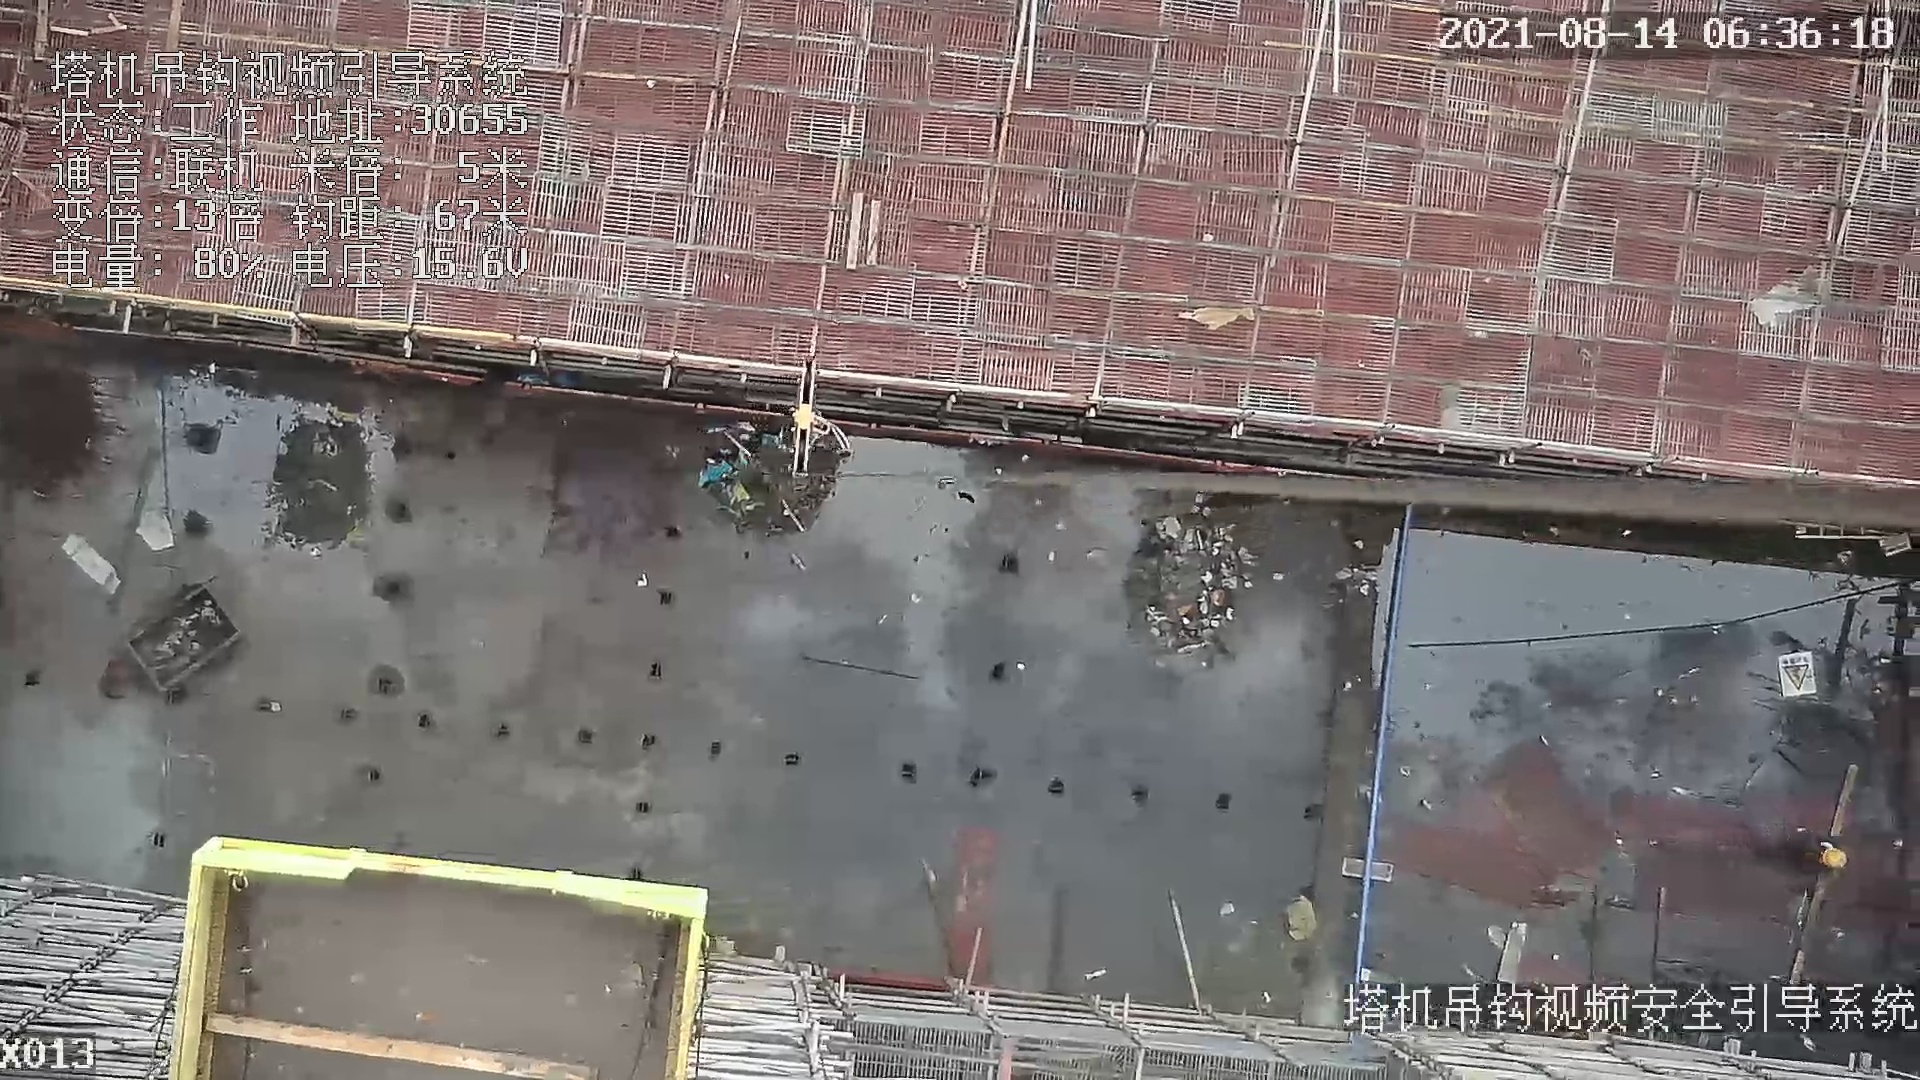helmet: (1823, 845, 1854, 872)
hook: (790, 362, 831, 480)
hopper: (112, 572, 255, 709)
person: (1749, 822, 1858, 895)
